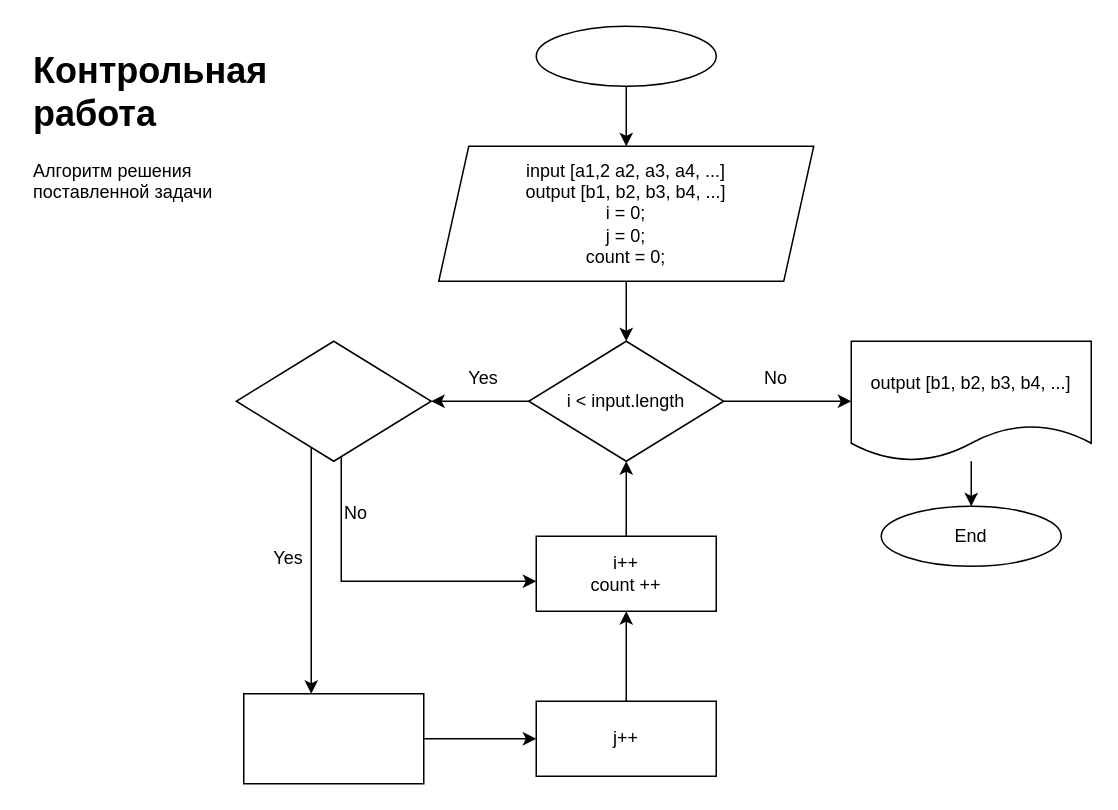
This 1118x810 diagram has some shape labels left out. Here are the shapes that lost their labels. From the top down, the box of each, then its label:
(535, 25, 716, 86): Start
(235, 340, 431, 461): input [i] <= 3
(242, 692, 424, 784): output [j] = input [i]
